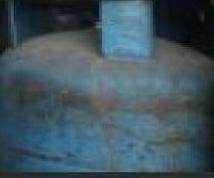cylinder: (1, 0, 214, 178)
